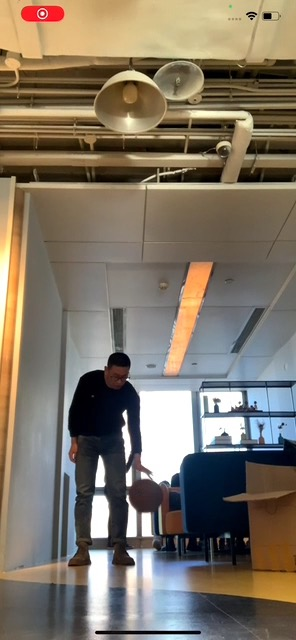ball: (129, 479, 163, 511)
